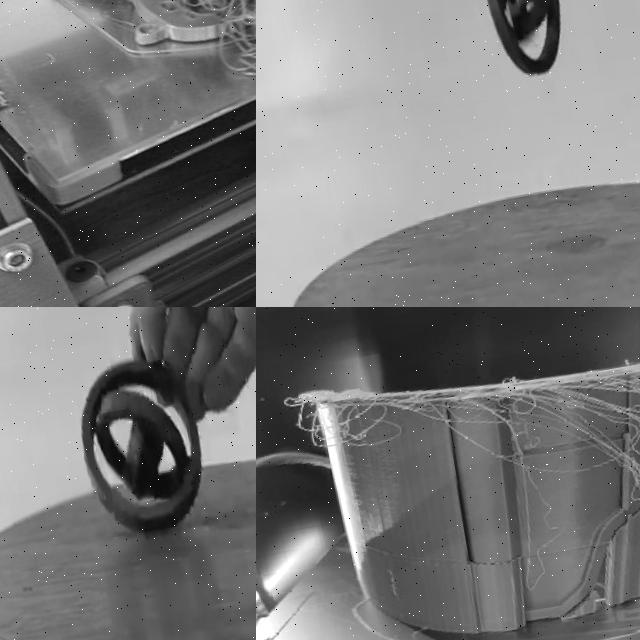spaghetti: (272, 307, 640, 520)
